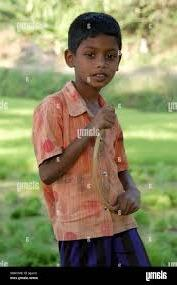Human: (27, 8, 159, 275)
